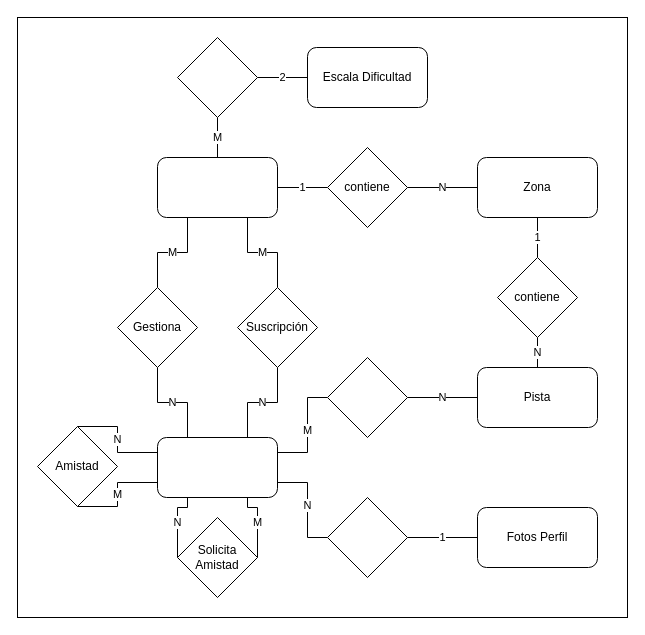
The diagram is 645 pixels wide and 635 high, and some of its shapes have lost their labels. Each missing label, with the centre of its shape:
"Ascenso" goes at (x=367, y=397).
"Escalador" goes at (x=217, y=467).
"Rocódromo" goes at (x=217, y=187).
"tiene" goes at (x=217, y=77).
"utiliza" goes at (x=367, y=537).
